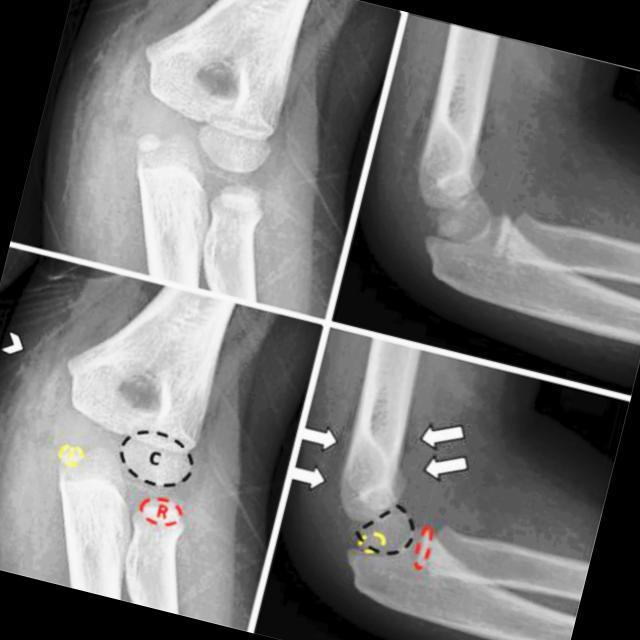Avlusion Fracture: (137, 484, 185, 531), (415, 515, 440, 581)
